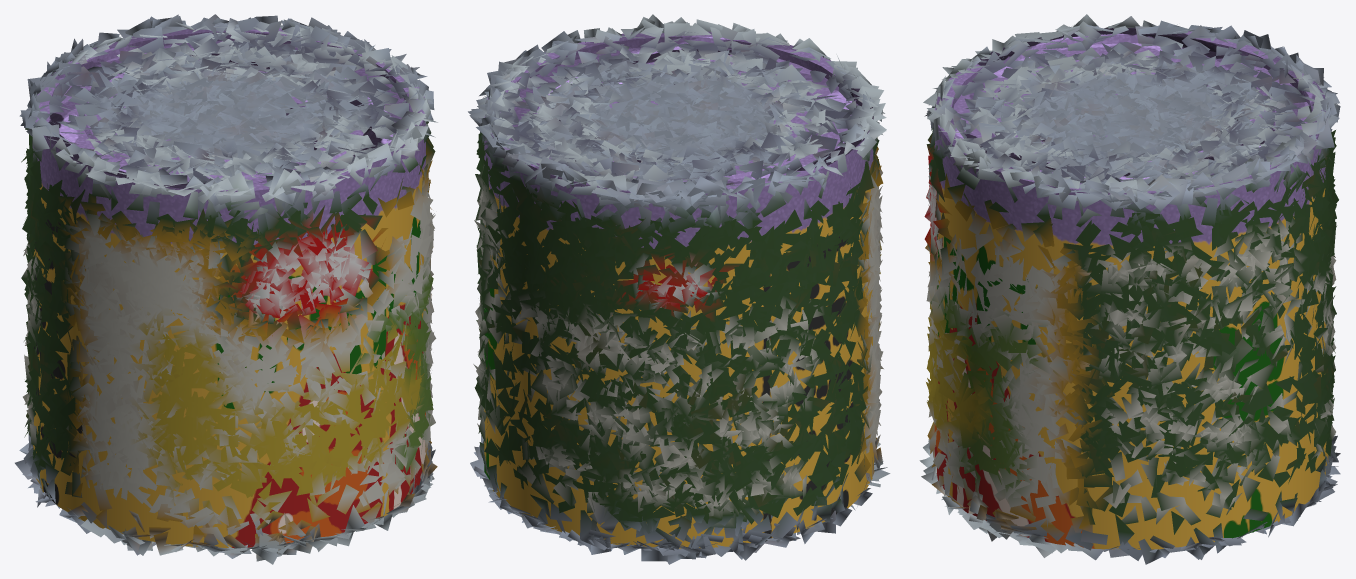
Rendered from SM_Can_01_withPlanes.fbx.
3 renders of one model, left to right at view 1: azimuth 30°, elevation 25°; view 2: azimuth 150°, elevation 25°; view 3: azimuth 270°, elevation 25°, orthographic.
Parts seen in each view (by area): view 1: Can_Planes, Can; view 2: Can_Planes, Can; view 3: Can_Planes, Can.
Boxes of the visible parts, bbox=[...] form: Can_Planes: bbox=[15, 14, 437, 564]; Can: bbox=[32, 28, 425, 548]; Can_Planes: bbox=[468, 14, 890, 564]; Can: bbox=[484, 31, 874, 548]; Can_Planes: bbox=[919, 14, 1340, 564]; Can: bbox=[934, 27, 1328, 549].
Bounding box in the file's own units: 214 × 219 × 215.
